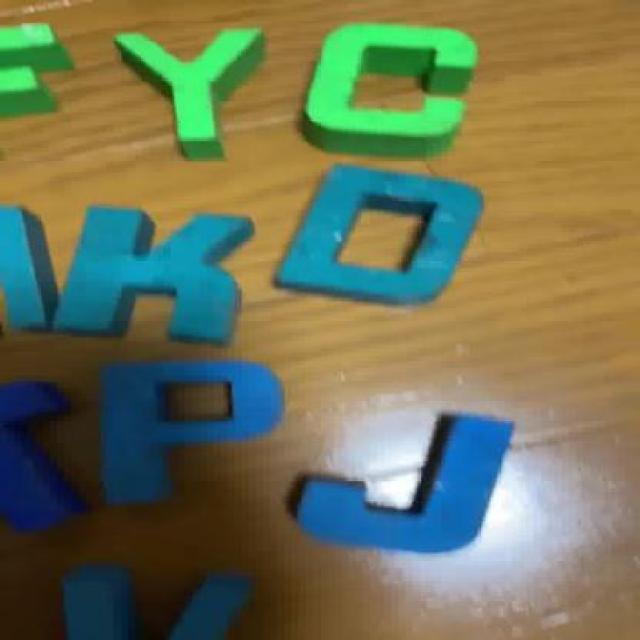C: (287, 17, 468, 155)
D: (284, 161, 488, 313)
J: (302, 412, 520, 554)
K: (61, 210, 252, 342)
P: (99, 351, 272, 500)
Y: (122, 29, 269, 153)
